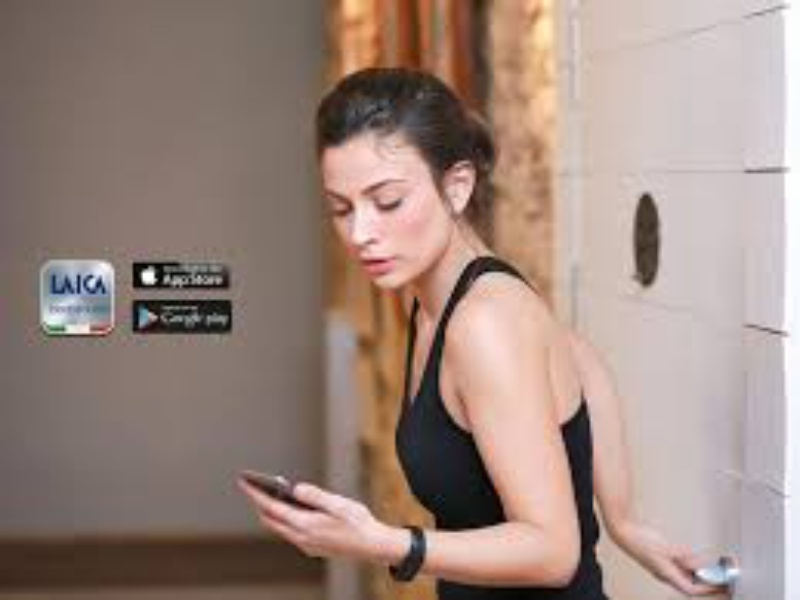TsisyArotava: (300, 75, 442, 292)
